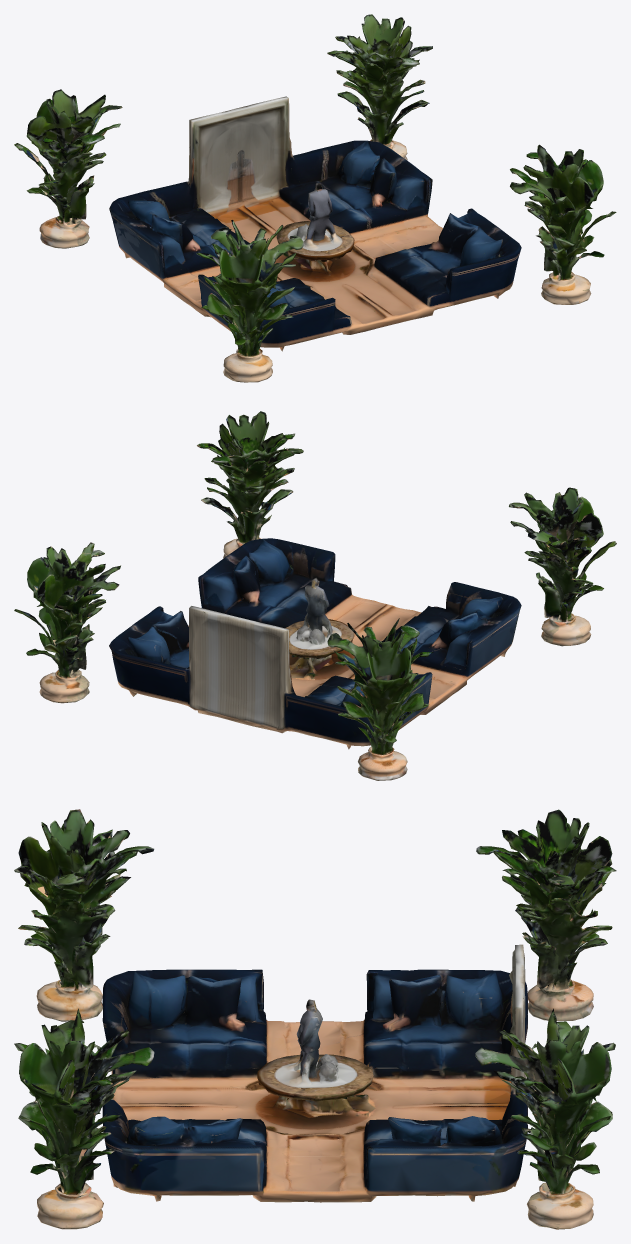
The model's file is hotel.glb.
3 views of the same model, one above another, from view 1: azimuth 30°, elevation 25°; view 2: azimuth 150°, elevation 25°; view 3: azimuth 270°, elevation 25° (orthographic). The views are drawn at different scales.
Size of the model in its own units: 1.91 by 0.6765 by 1.91.
Materials: 1 (1 with a texture image).
